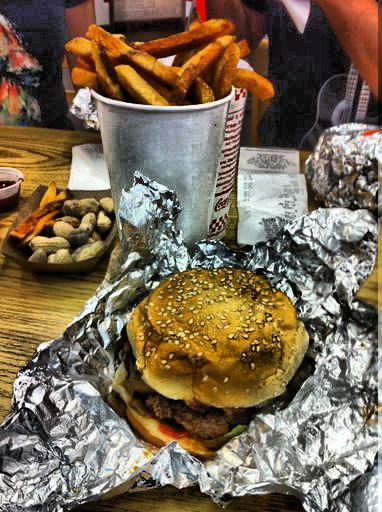burger: (117, 267, 323, 461)
